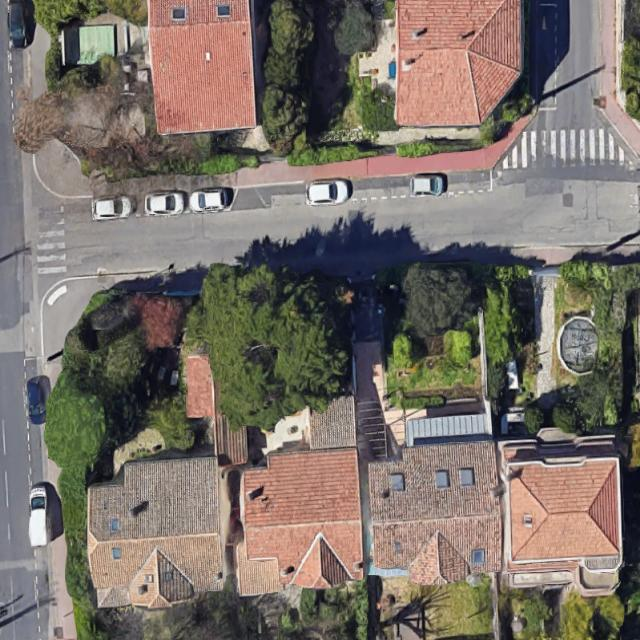maison: (225, 396, 366, 595), (80, 455, 227, 613), (499, 437, 626, 603), (367, 439, 504, 587), (396, 0, 522, 125), (146, 0, 257, 135)
